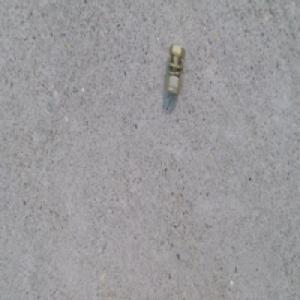BoltNutSet: (162, 46, 185, 96)
